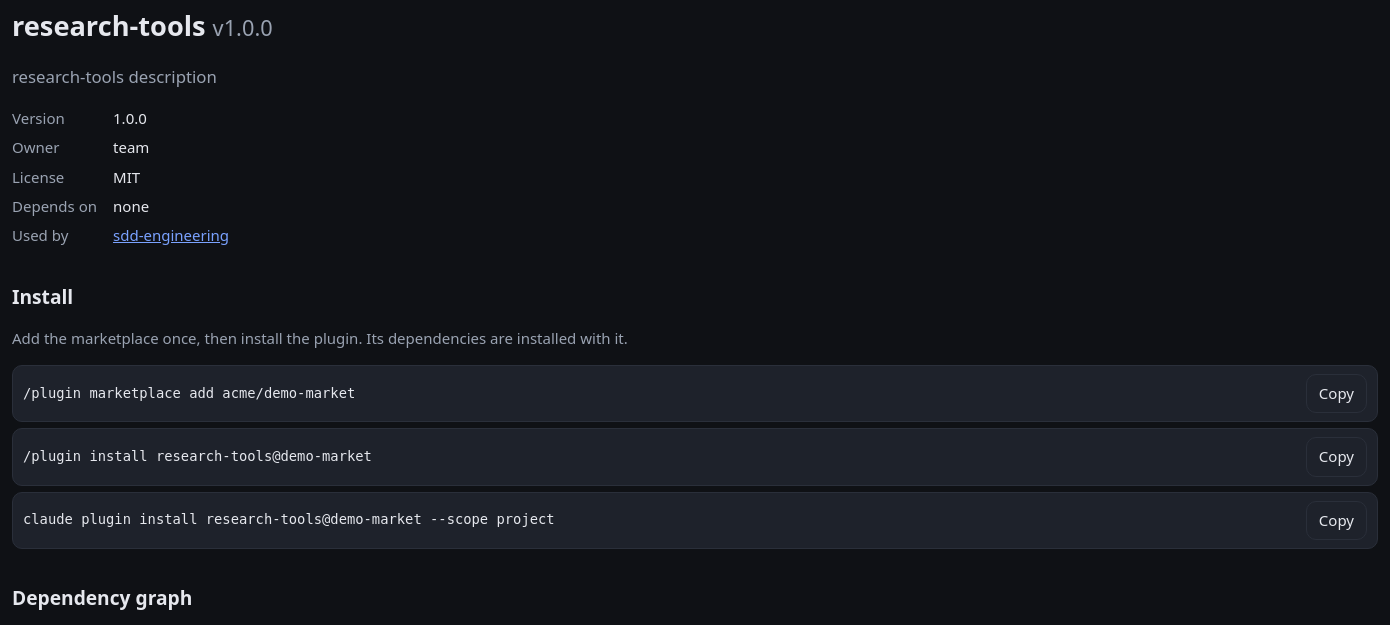
PluginScreen › reports a failed copy instead of pretending it worked
Click the button "Copy" in the row of "/plugin marketplace add acme/demo-market": {"x": 1336, "y": 394} [1306, 374, 1367, 413]
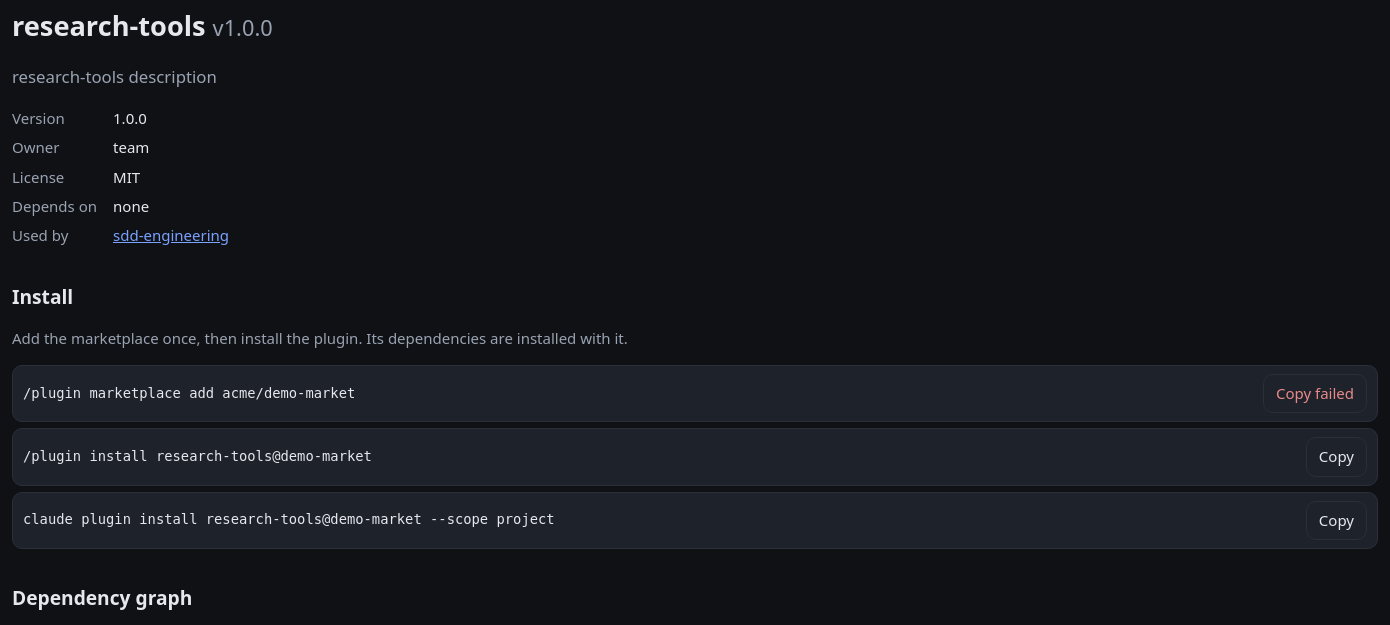
Check: the text "Copy failed" is shown, box [1276, 383, 1354, 403]
